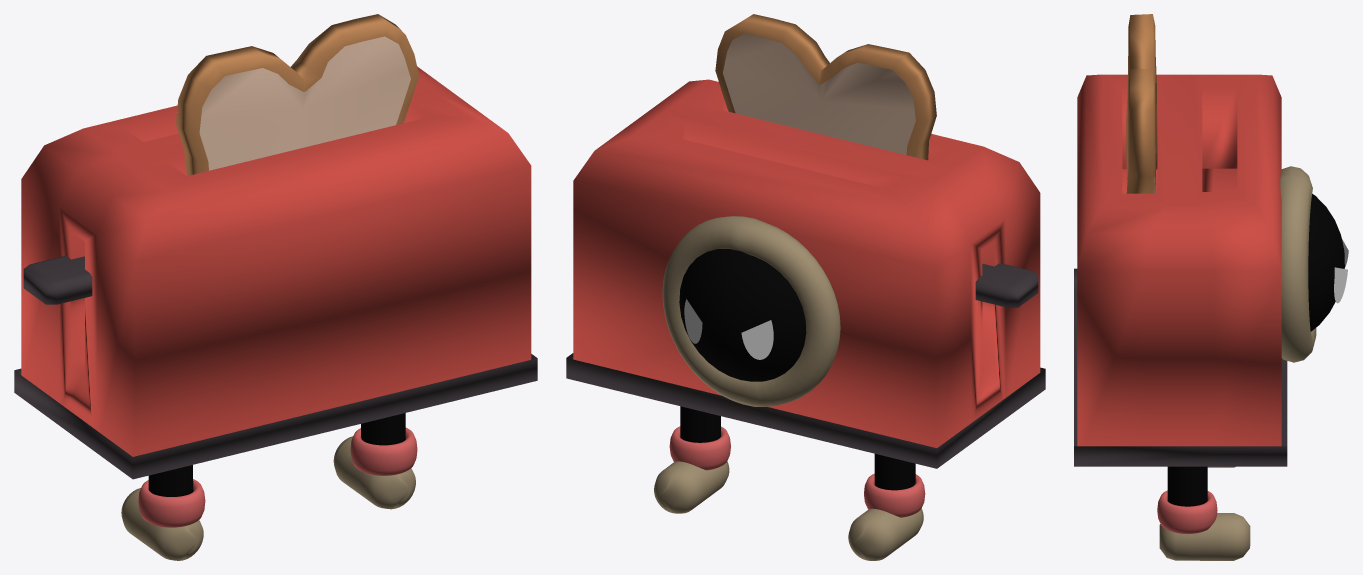
The model's file is toaster.fbx.
3 views of the same model, side by side, from view 1: azimuth 30°, elevation 25°; view 2: azimuth 150°, elevation 25°; view 3: azimuth 270°, elevation 25° (orthographic). The views are drawn at different scales.
Visible parts, largest first — view 1: Plane.002, Plane.004; view 2: Plane.002, Plane.004; view 3: Plane.002, Plane.004.
Boxes of the visible parts, left/top/right/bottom form: Plane.002: left=14, top=66, right=537, bottom=560; Plane.004: left=176, top=14, right=419, bottom=175; Plane.002: left=566, top=79, right=1045, bottom=560; Plane.004: left=715, top=14, right=936, bottom=160; Plane.002: left=1074, top=74, right=1348, bottom=560; Plane.004: left=1126, top=14, right=1156, bottom=193.
Bounding box in the file's own units: 387 × 425 × 230.
